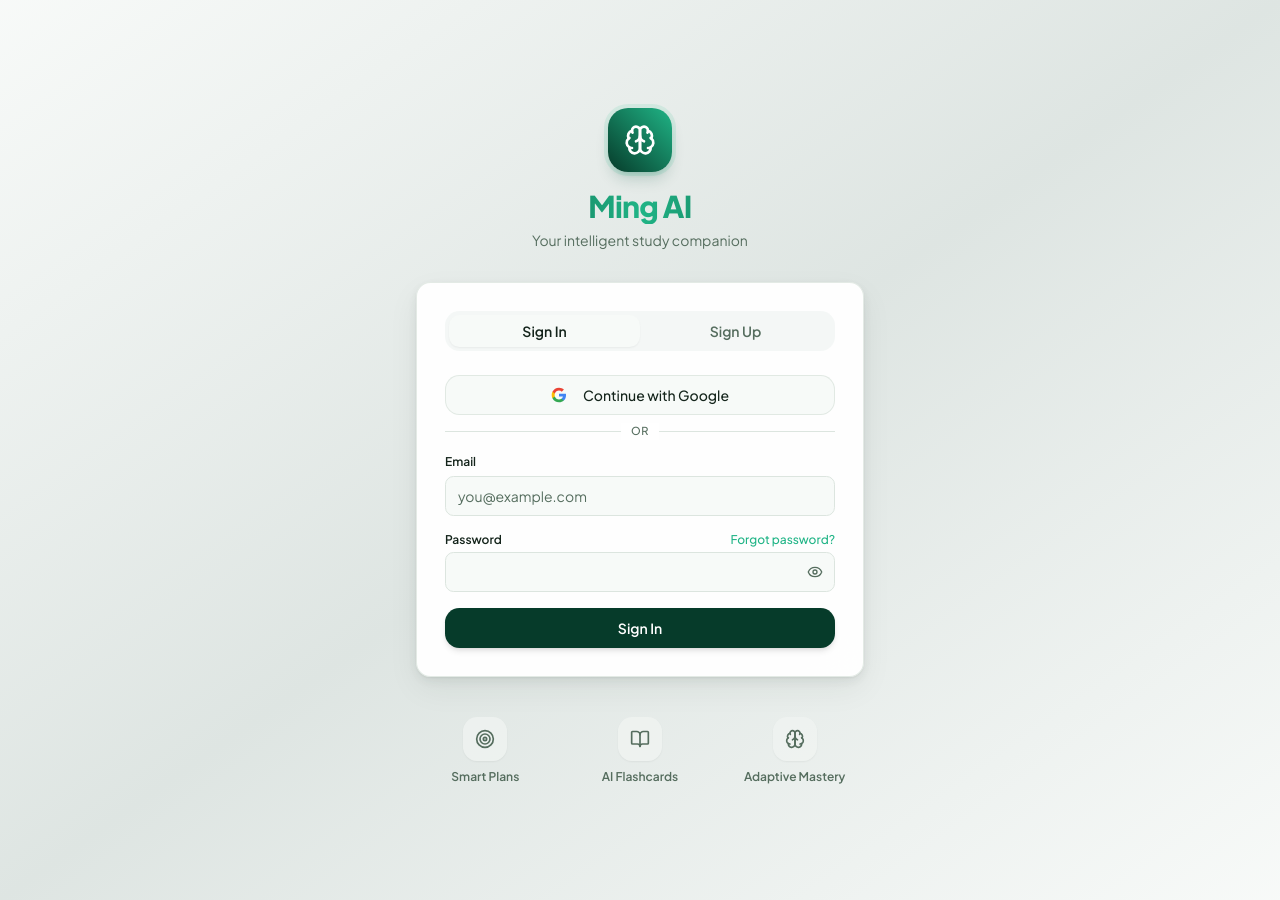
Password Reset & Forgot Password Flow › switches to Step 1 (Reset your password) when clicking "Forgot password?"
Click the button "Forgot password?". click: (783, 540)
box: [730, 532, 835, 548]
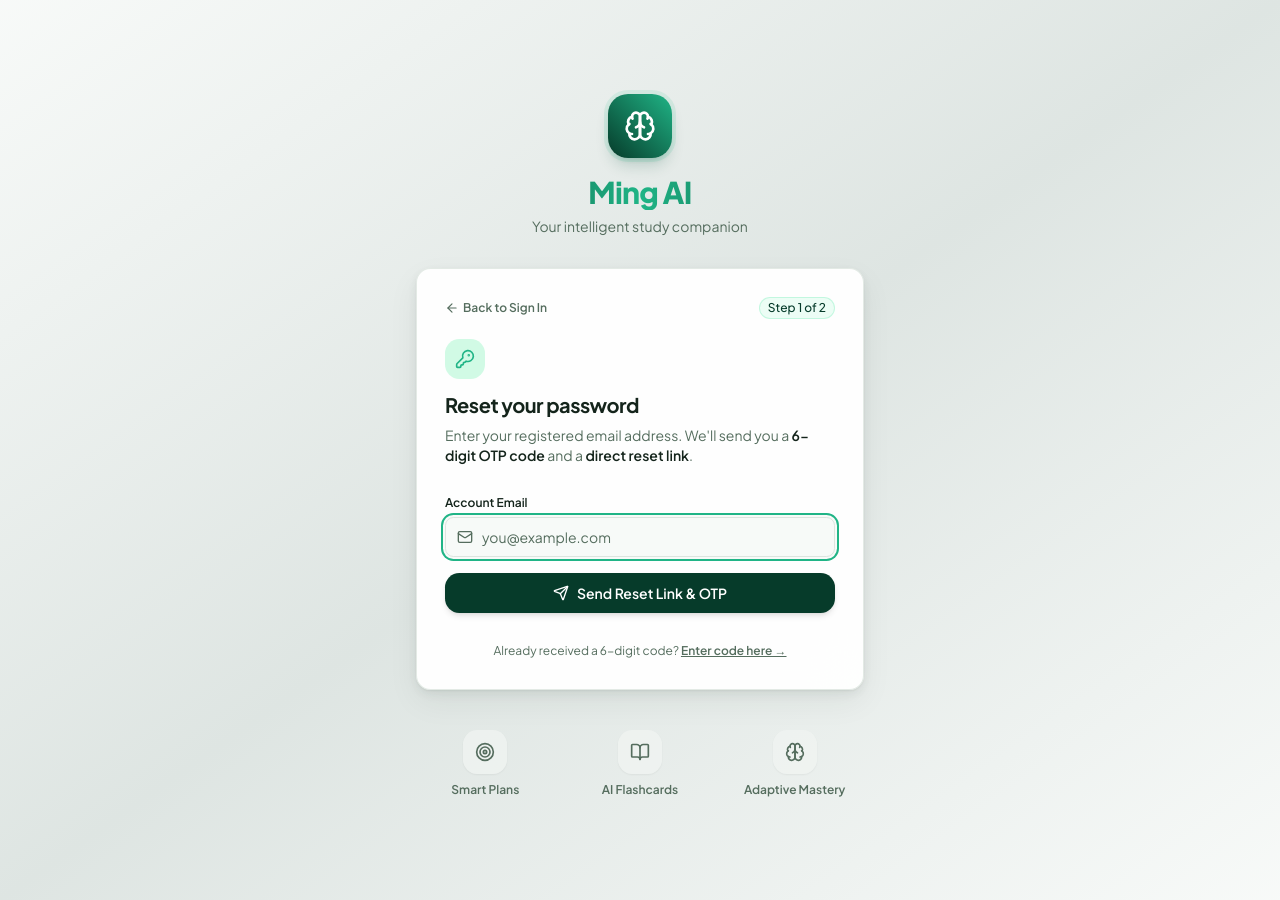
expect the heading "Reset your password" is shown: met, box [445, 392, 639, 417]
expect the field with placeholder "you@example.com" is shown: met, box [445, 517, 835, 557]
expect the button "Send Reset Link & OTP" is shown: met, box [445, 573, 835, 613]
